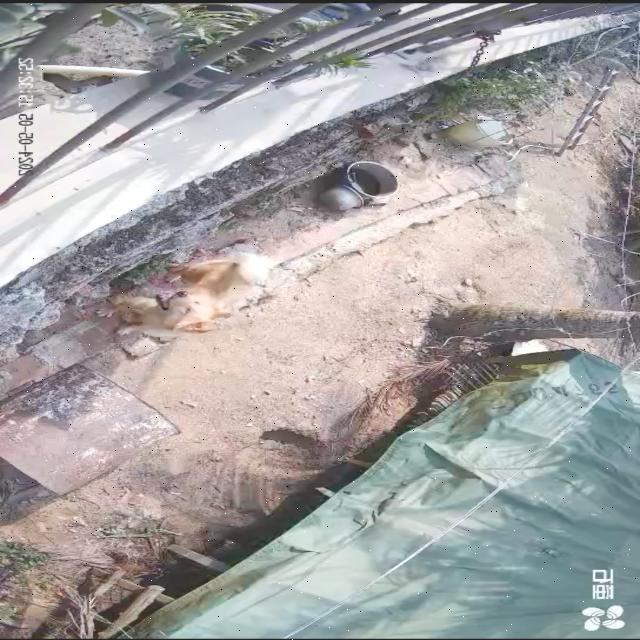dog: (97, 253, 276, 339)
